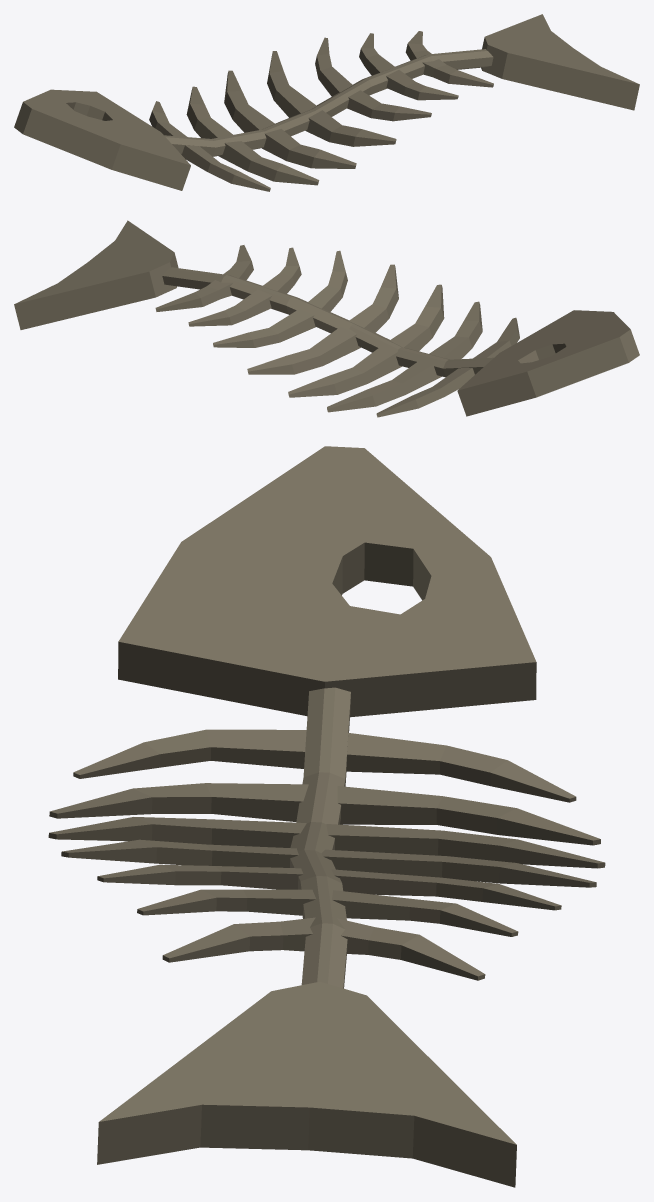
Rendered from fish_bone.glb.
3 renders of one model, top to bottom at view 1: azimuth 30°, elevation 25°; view 2: azimuth 150°, elevation 25°; view 3: azimuth 270°, elevation 25°, orthographic. The views are drawn at different scales.
Parts seen in each view (by area): view 1: fish_bone; view 2: fish_bone; view 3: fish_bone.
Part boxes in pixels (x1,y1,x2,y2): fish_bone: (14, 14, 639, 191); fish_bone: (14, 220, 639, 417); fish_bone: (48, 446, 605, 1187).
Bounding box in the file's own units: 0.3 × 0.051 × 0.1273.
